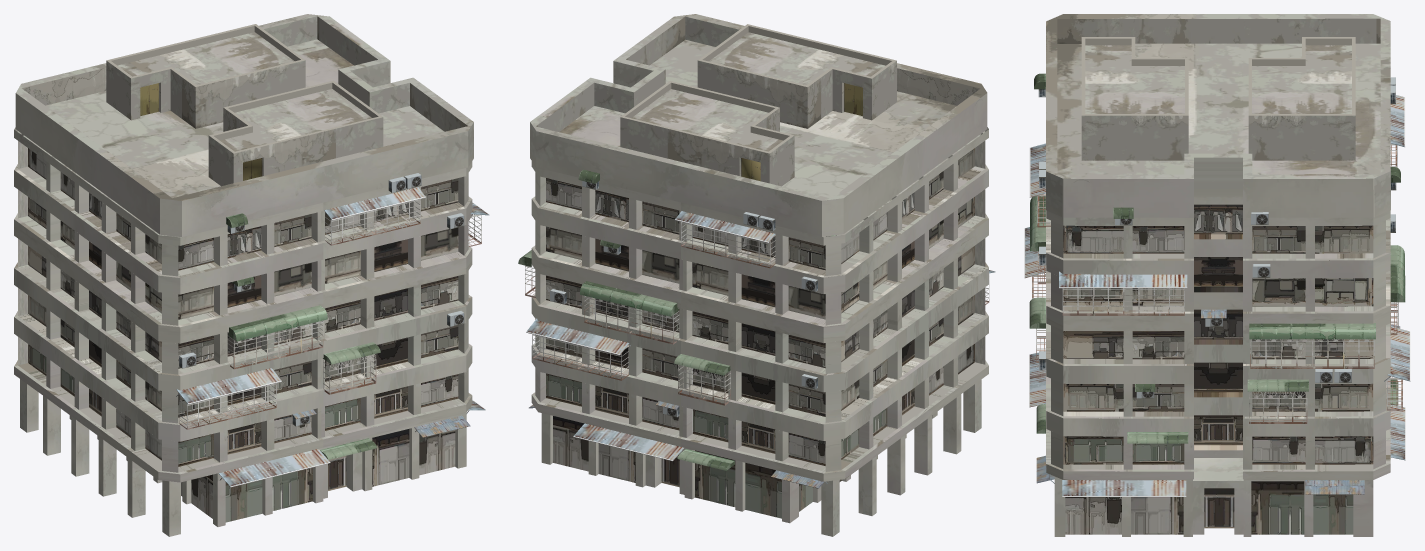
Rendered from building-3.glb.
3 renders of one model, left to right at view 1: azimuth 30°, elevation 25°; view 2: azimuth 150°, elevation 25°; view 3: azimuth 270°, elevation 25°, orthographic. The views are drawn at different scales.
Visible parts, largest first — view 1: apartment_02_fine_concrete_fine_0, apartment_02_fine_concrete_02_0, apartment_02_fine_build_01_0, polySurface3489_rooftop_01_0; view 2: apartment_02_fine_concrete_fine_0, apartment_02_fine_concrete_02_0, apartment_02_fine_build_01_0, polySurface3489_rooftop_01_0; view 3: apartment_02_fine_concrete_02_0, apartment_02_fine_concrete_fine_0, apartment_02_fine_build_01_0, polySurface3489_rooftop_01_0.
Part boxes in pixels (<box>): apartment_02_fine_concrete_fine_0: <box>14,61,473,536</box>; apartment_02_fine_concrete_02_0: <box>14,14,473,474</box>; apartment_02_fine_build_01_0: <box>28,148,458,522</box>; polySurface3489_rooftop_01_0: <box>140,83,489,487</box>; apartment_02_fine_concrete_fine_0: <box>530,61,988,536</box>; apartment_02_fine_concrete_02_0: <box>530,14,988,473</box>; apartment_02_fine_build_01_0: <box>546,148,974,518</box>; polySurface3489_rooftop_01_0: <box>518,83,995,488</box>; apartment_02_fine_concrete_02_0: <box>1046,14,1390,471</box>; apartment_02_fine_concrete_fine_0: <box>1046,157,1390,536</box>; apartment_02_fine_build_01_0: <box>1063,204,1373,534</box>; polySurface3489_rooftop_01_0: <box>1024,73,1410,496</box>.
Size of the model in its own units: 169 by 175 by 160.
Materials: 5 (5 with a texture image).
